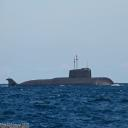submarine: (8, 69, 117, 85)
